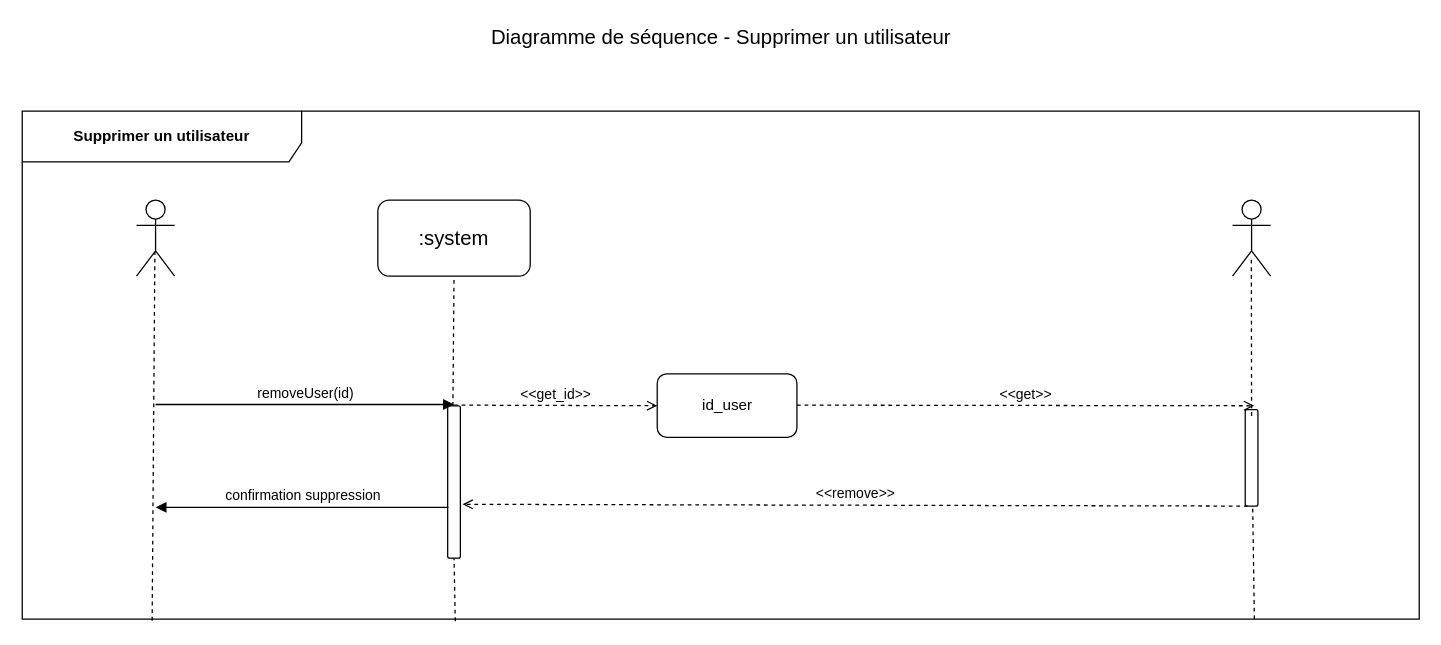
Some shapes in this 1441 by 645 pixel diagram are drawn without their labels. Each missing label, with the centre of its shape:
":bdd" belongs at [1251,237].
":utilisateur" belongs at [155,237].
